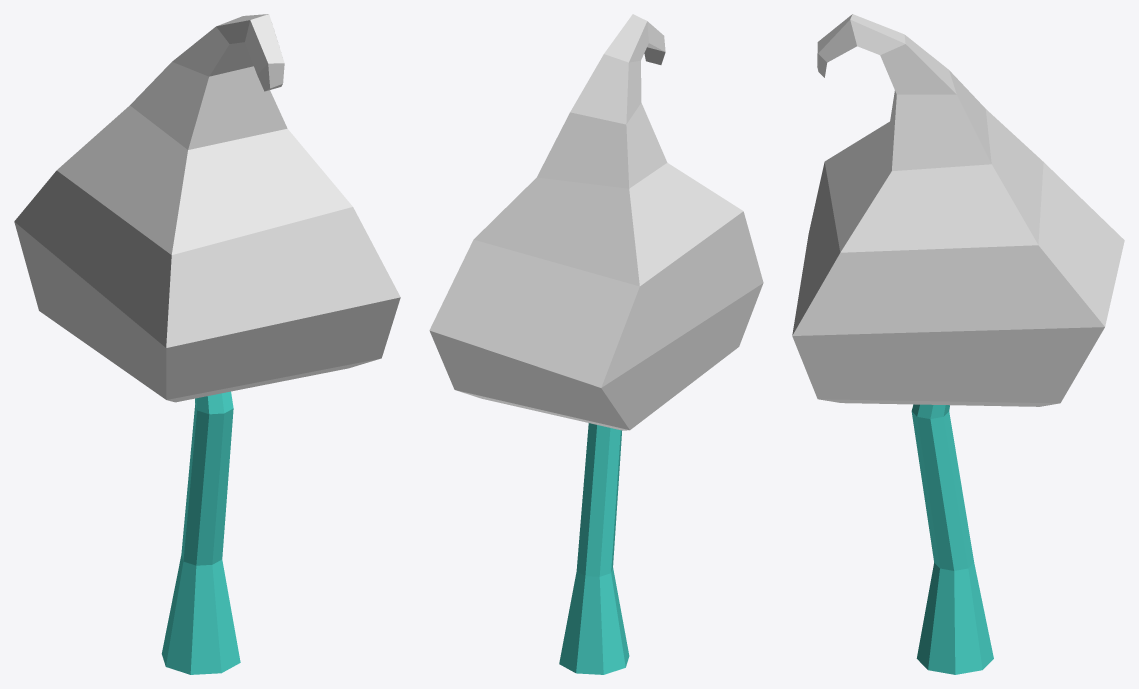
File: Glow Fungus.fbx
The picture shows the model from 3 angles, left to right: view 1: azimuth 30°, elevation 25°; view 2: azimuth 150°, elevation 25°; view 3: azimuth 270°, elevation 25°; orthographic projection. The views are drawn at different scales.
Parts seen in each view (by area): view 1: Jamur, Batang; view 2: Jamur, Batang; view 3: Jamur, Batang.
Boxes of the visible parts, x1,y1,x2,y2 form: Jamur: (14, 14, 400, 402); Batang: (161, 391, 240, 674); Jamur: (429, 14, 763, 430); Batang: (559, 423, 629, 674); Jamur: (792, 14, 1124, 406); Batang: (911, 404, 993, 674).
Size of the model in its own units: 28.96 by 83.57 by 39.07.
